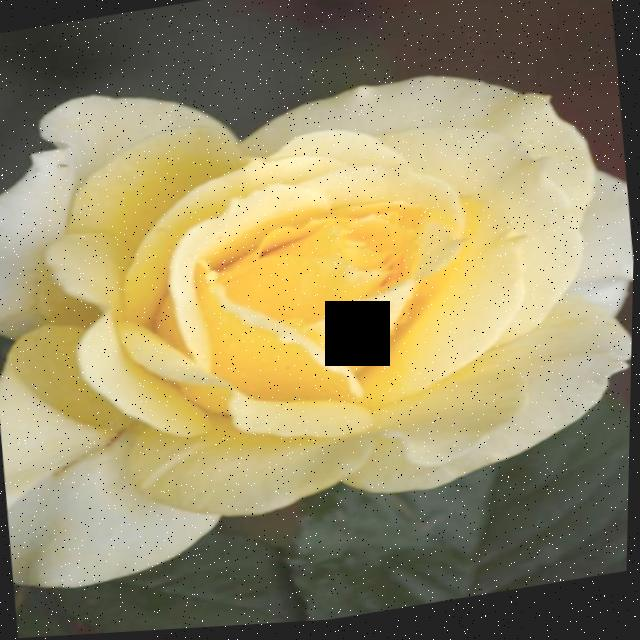rose: (0, 14, 639, 604)
